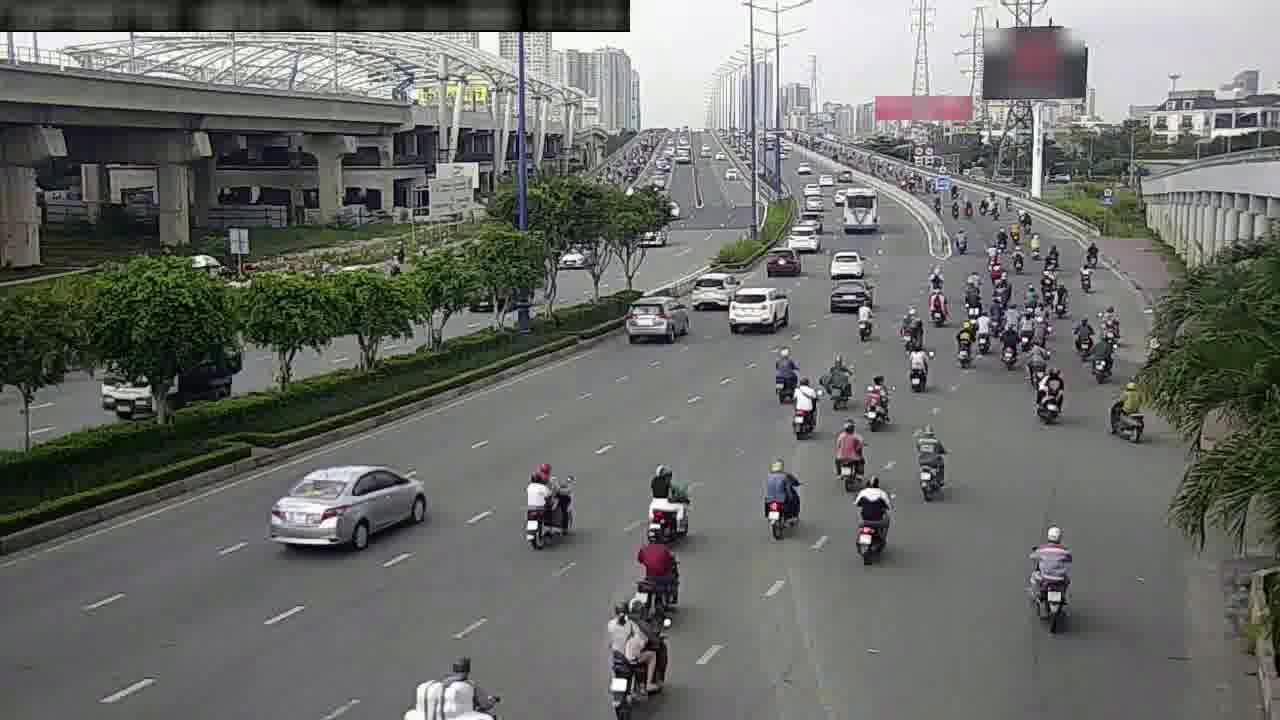container: (274, 452, 433, 552), (619, 289, 689, 345), (723, 281, 789, 331), (686, 270, 737, 310), (825, 275, 869, 315), (761, 244, 802, 279), (825, 245, 866, 278), (787, 220, 822, 250)
motorbike: (601, 602, 671, 702), (513, 461, 579, 548), (1021, 530, 1075, 615), (637, 464, 693, 541), (629, 536, 683, 611), (756, 457, 806, 534), (846, 478, 895, 555), (907, 426, 953, 500), (1101, 384, 1151, 444), (825, 422, 867, 485), (1025, 364, 1068, 424), (857, 373, 895, 430), (784, 383, 821, 441), (765, 347, 801, 402), (821, 355, 854, 409), (899, 340, 933, 392), (1086, 333, 1118, 381), (947, 320, 978, 368), (992, 323, 1021, 371), (892, 303, 921, 347), (923, 285, 950, 325), (1022, 335, 1048, 376), (972, 312, 997, 353), (853, 300, 877, 342), (1074, 314, 1097, 356), (1073, 256, 1098, 294), (1032, 306, 1056, 345), (1049, 283, 1074, 319), (1013, 306, 1036, 345), (920, 259, 947, 292), (985, 296, 1007, 333), (1102, 300, 1119, 346), (960, 271, 978, 313)
